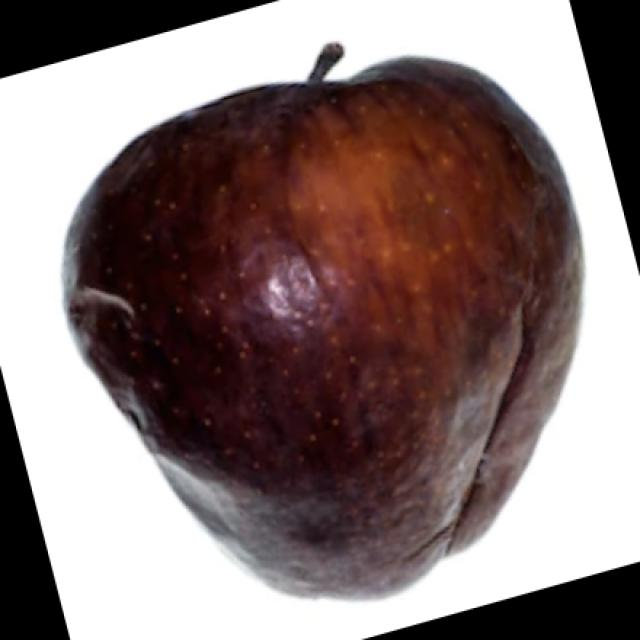organik: (0, 24, 625, 582)
